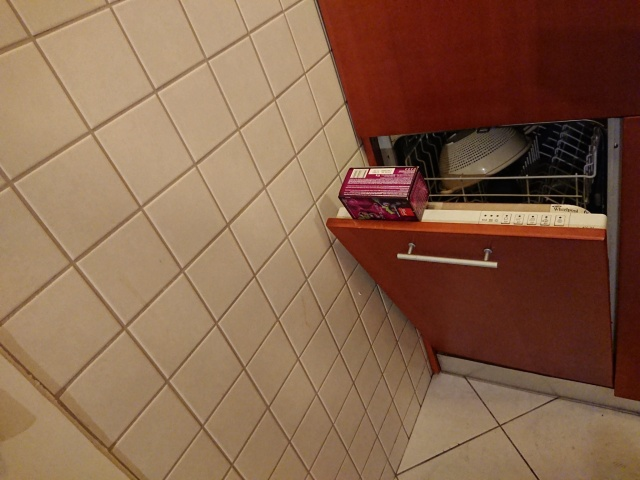Franck Black Currant Tea 60g: (336, 163, 432, 224)
